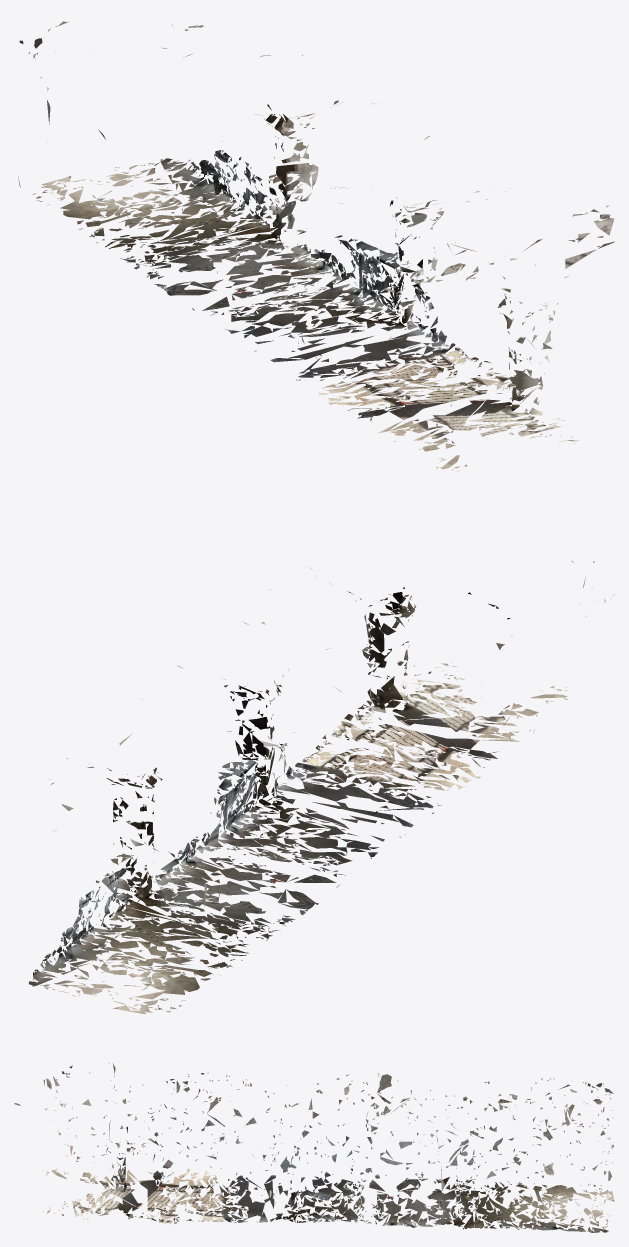
The model's file is tunelkamen2.glb.
3 renders of one model, top to bottom at view 1: azimuth 30°, elevation 25°; view 2: azimuth 150°, elevation 25°; view 3: azimuth 270°, elevation 25°, orthographic. The views are drawn at different scales.
Parts seen in each view (by area): view 1: Mesh_0; view 2: Mesh_0; view 3: Mesh_0.
Boxes of the visible parts, <box> form: Mesh_0: <box>17,21,614,471</box>; Mesh_0: <box>28,560,614,1014</box>; Mesh_0: <box>14,1063,614,1232</box>.
Bounding box in the file's own units: 11.13 × 9.84 × 35.93.
Materials: 1 (1 with a texture image).
